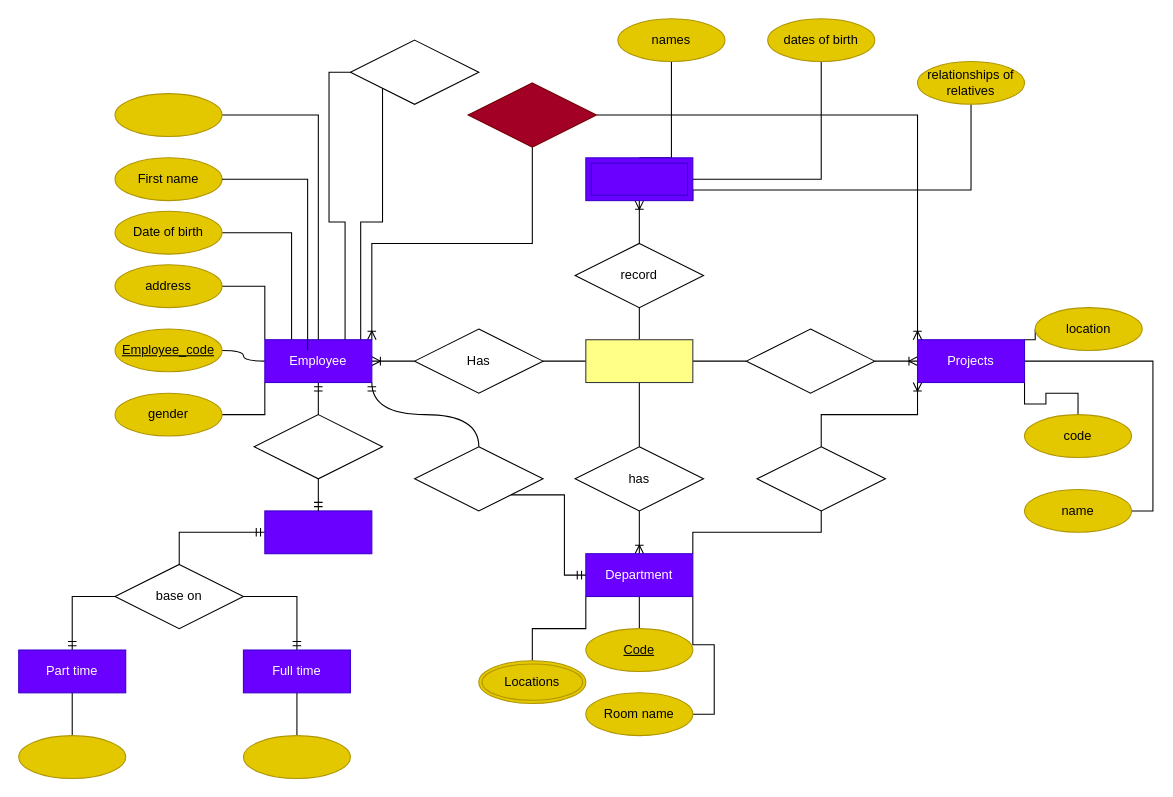
The diagram is 1173 pixels wide and 797 high, and some of its shapes have lost their labels. Each missing label, with the centre of its shape:
assign: (x=820, y=478)
COMPANY: (x=639, y=361)
Company policies: (x=296, y=756)
implement: (x=810, y=360)
manage: (x=478, y=478)
manager: (x=414, y=71)
Middle name: (x=168, y=114)
participate: (x=532, y=114)
receive: (x=318, y=446)
relatives: (x=639, y=179)
Rules pay rates: (x=72, y=756)
Salaries: (x=318, y=532)
